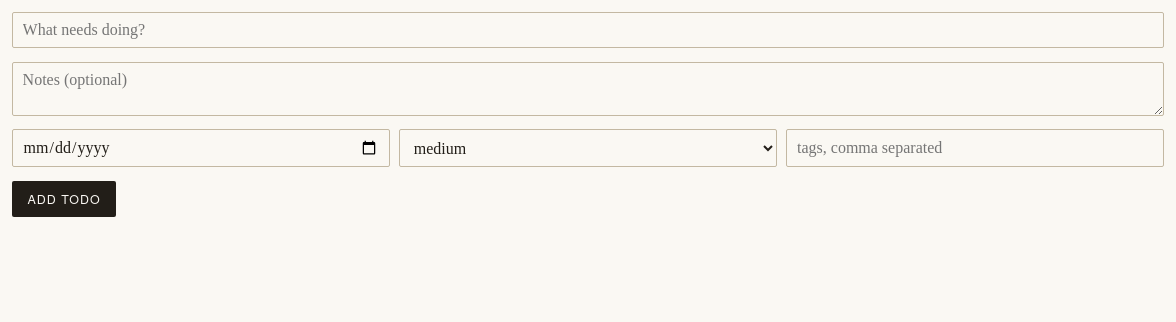
it: TodoForm › shows the error the API sends back
Type "x" into the field named "Title". click: (588, 30)
box: left=12, top=12, right=1164, bottom=48
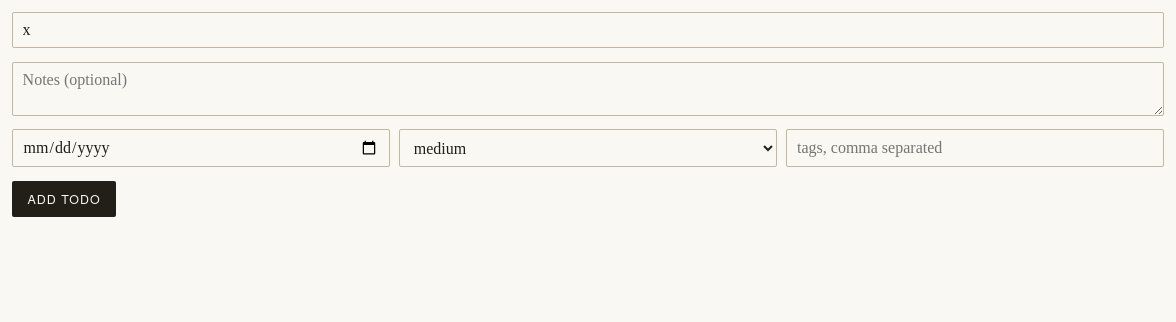
Submit the form
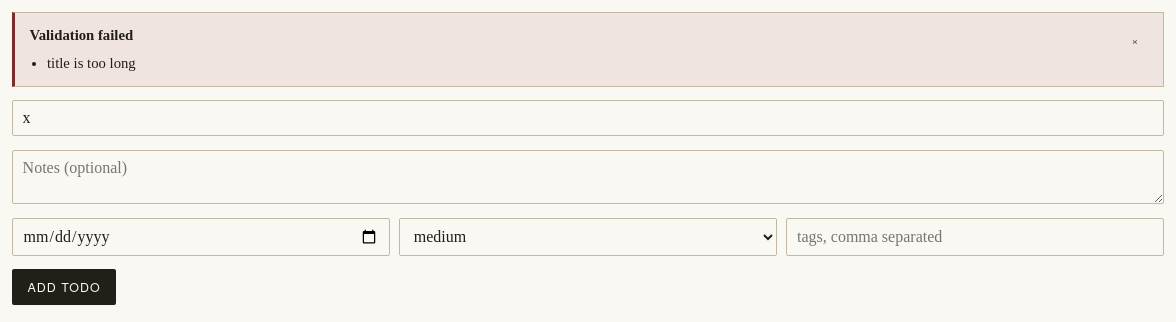
Now the form shows "Validation failed", box left=29, top=27, right=133, bottom=43
Now the form shows "is too long", box left=47, top=55, right=136, bottom=71
